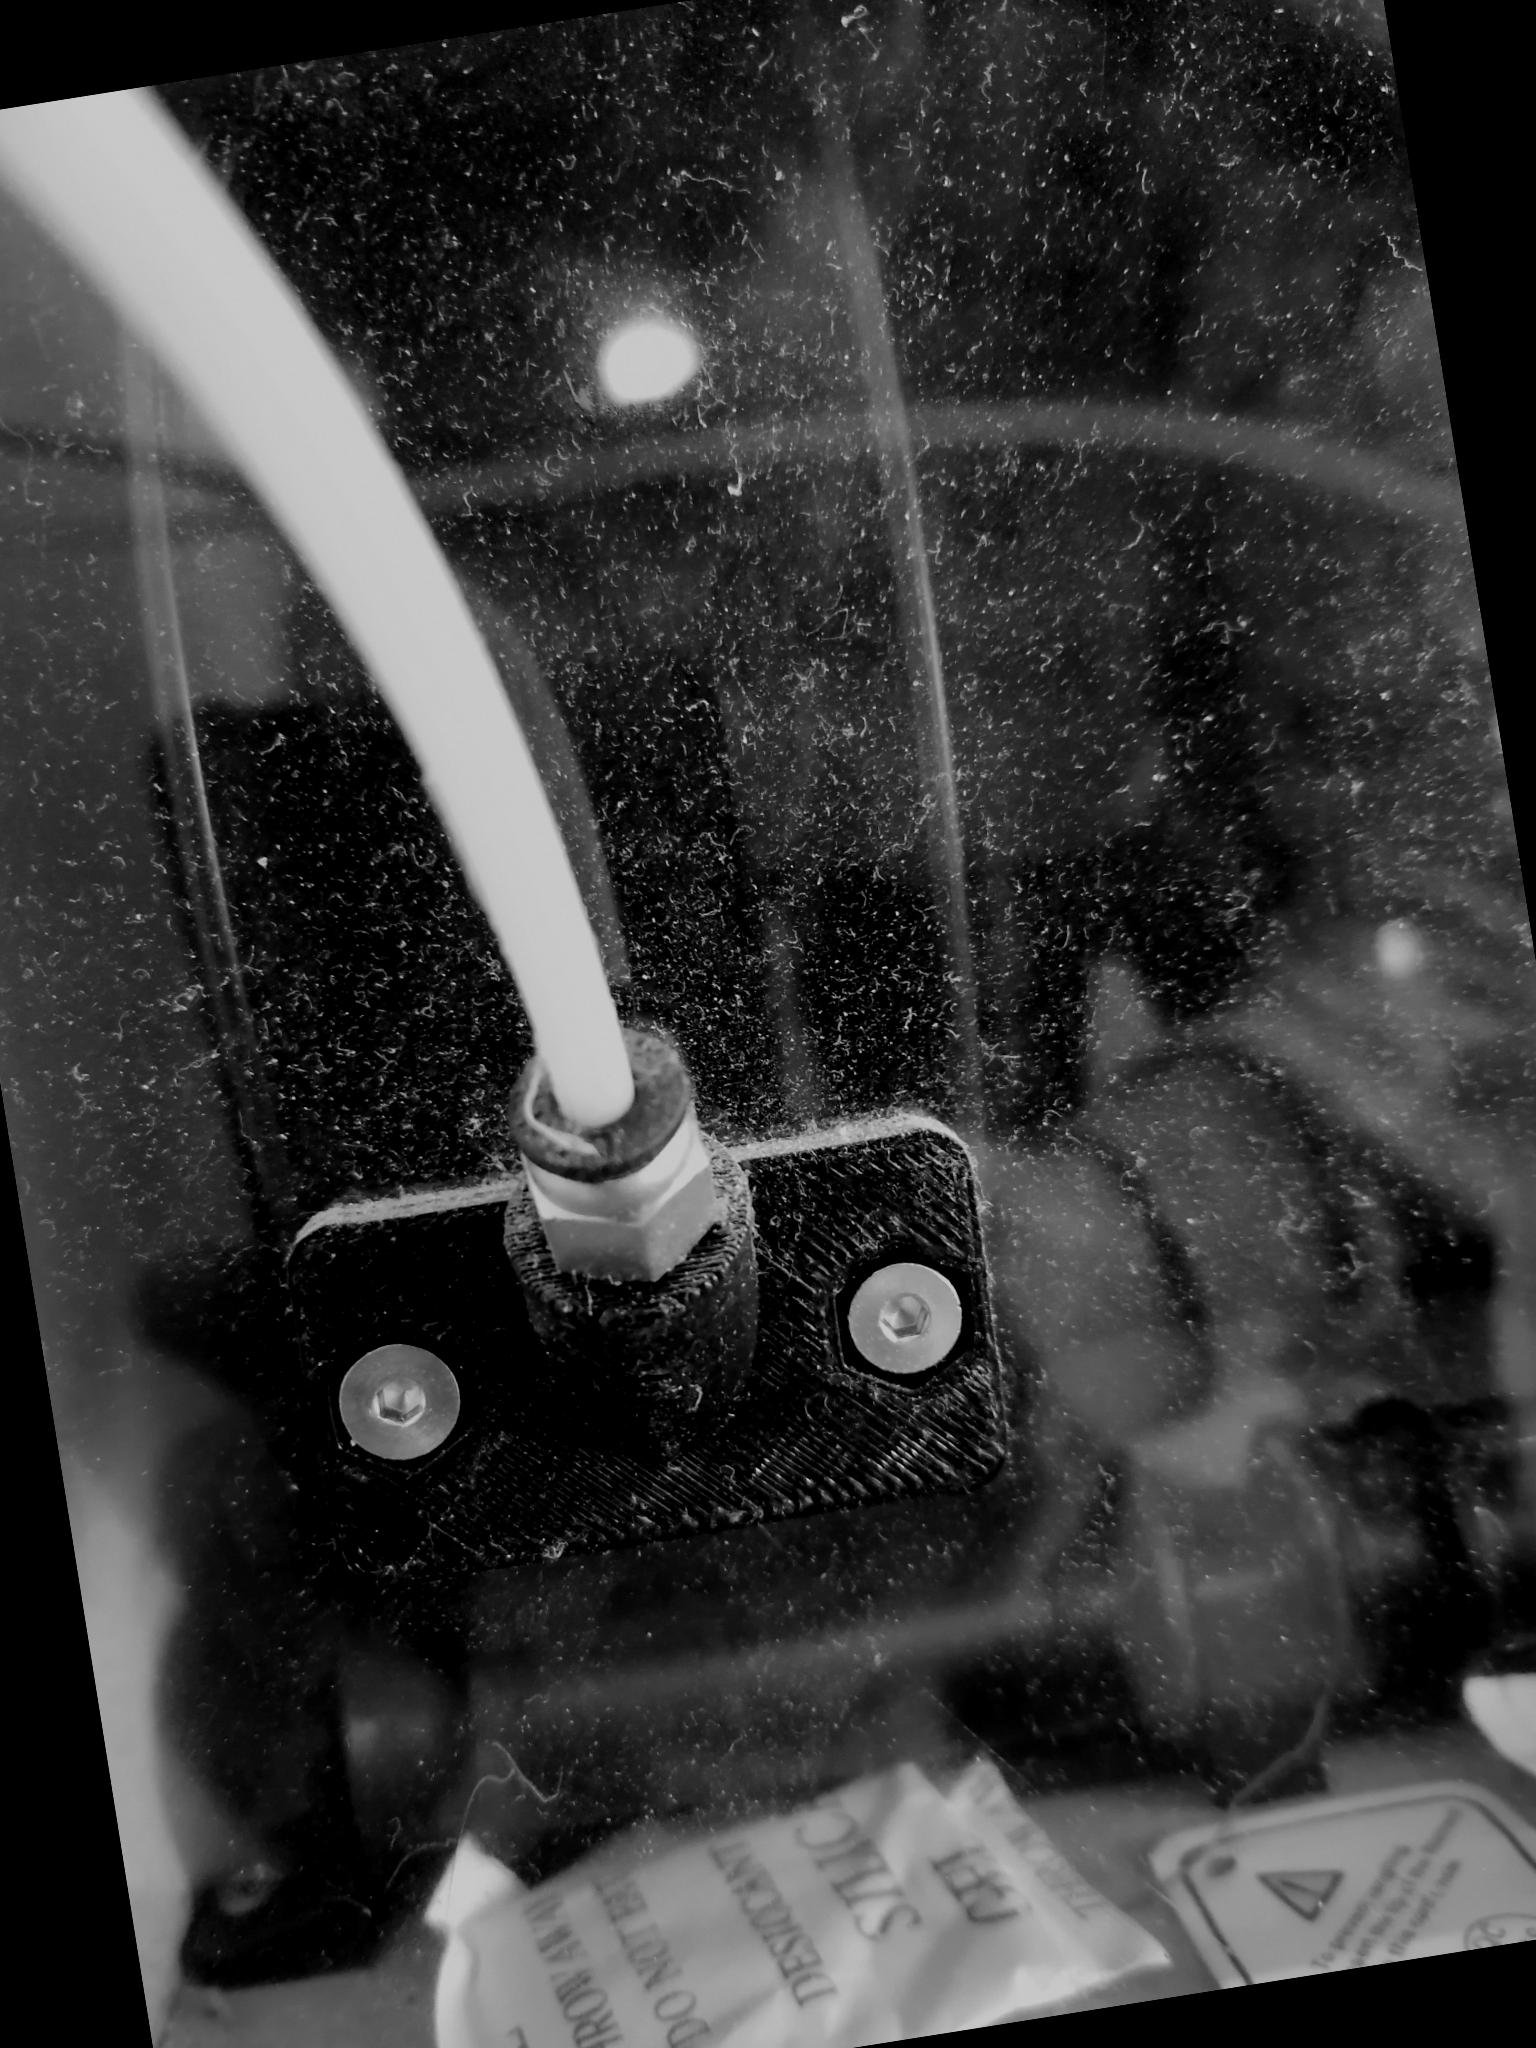allen: (823, 1243, 976, 1392), (323, 1332, 473, 1477)
